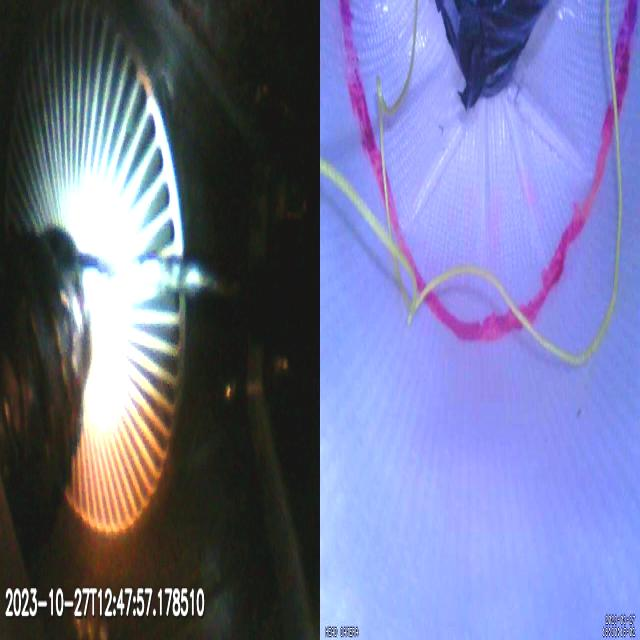red-circle: (336, 0, 640, 347)
